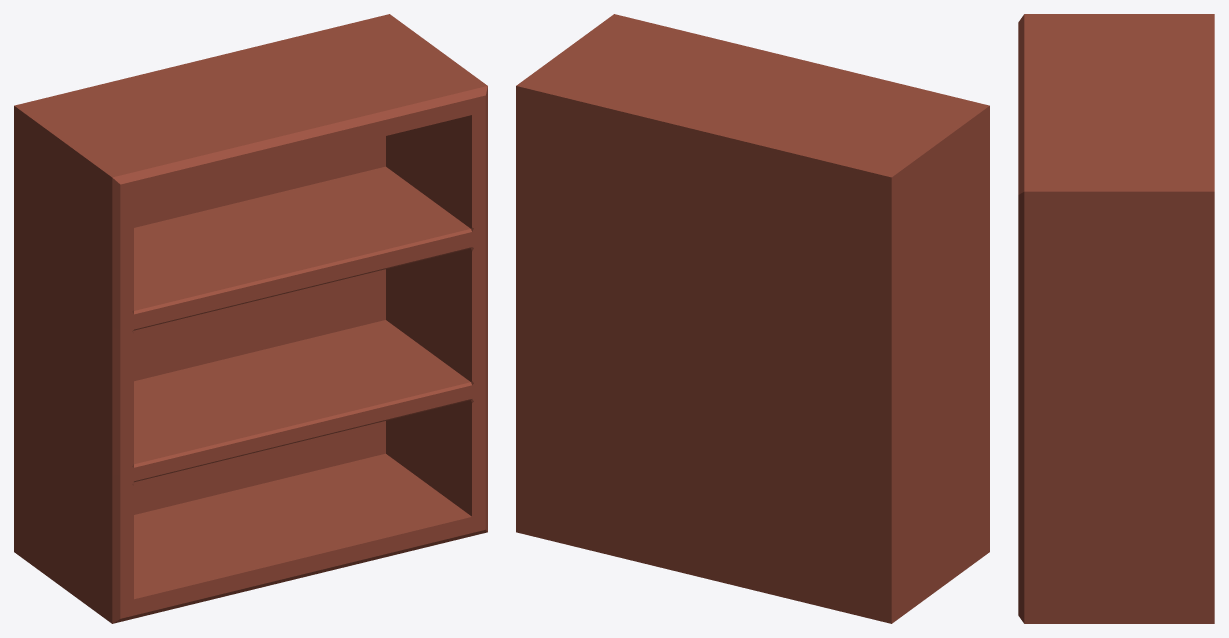
Rendered from electrical_bookshelf.fbx.
The picture shows the model from 3 angles, left to right: view 1: azimuth 30°, elevation 25°; view 2: azimuth 150°, elevation 25°; view 3: azimuth 270°, elevation 25°; orthographic projection. The views are drawn at different scales.
Parts seen in each view (by area): view 1: Cube.013; view 2: Cube.013; view 3: Cube.013.
Part boxes in pixels (x1,y1,x2,y2): Cube.013: [14, 14, 487, 623]; Cube.013: [516, 14, 989, 623]; Cube.013: [1018, 14, 1214, 623].
Size of the model in its own units: 176 by 200 by 82.19.
